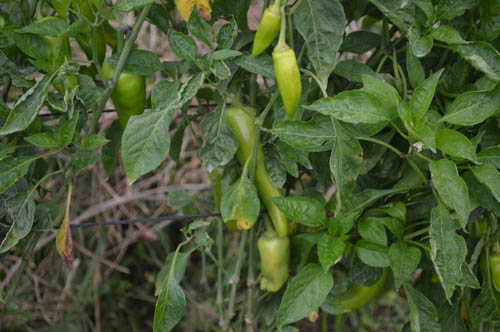ChiliPepper: (230, 109, 290, 234), (103, 63, 151, 129), (274, 51, 305, 118), (261, 235, 292, 290), (247, 12, 278, 58)
